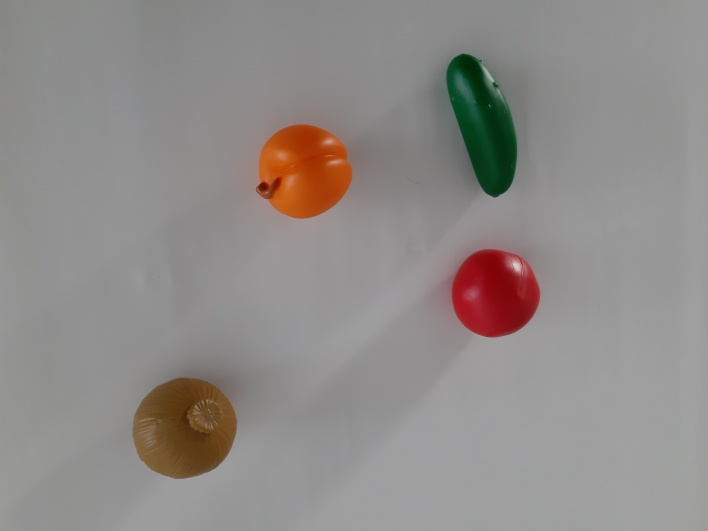apricot: (234, 109, 370, 248)
cucumber: (422, 36, 543, 212)
onion: (118, 362, 255, 494)
tomato: (426, 233, 563, 362)
